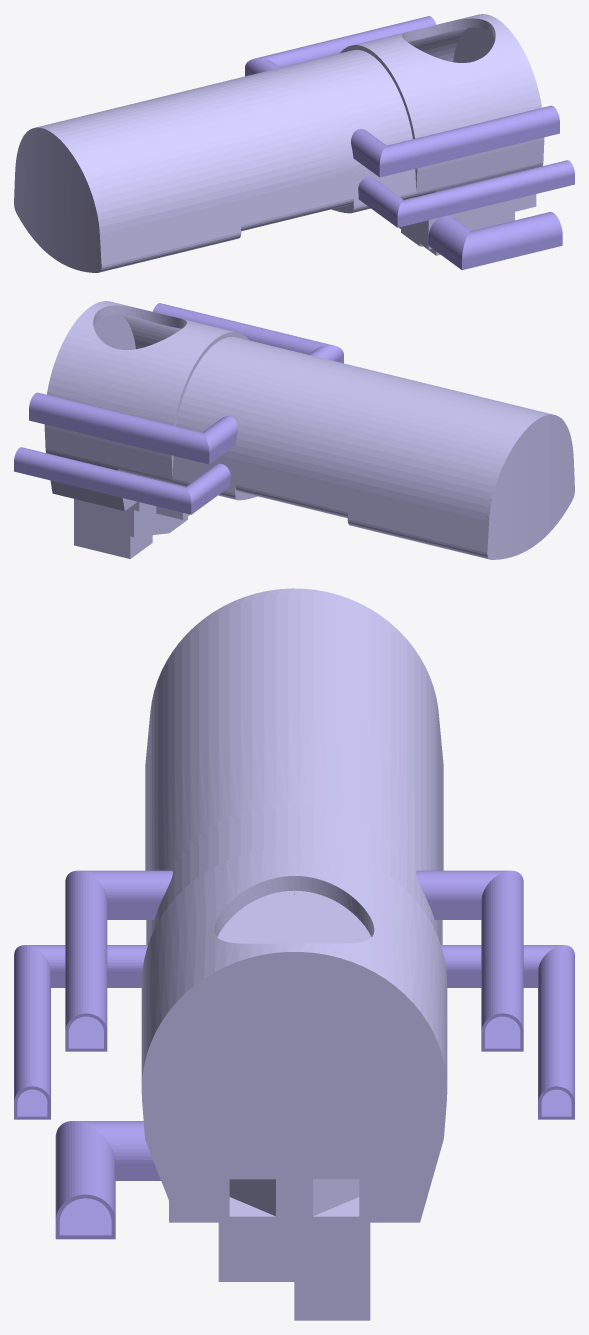
File: USA15-cut3.glb
3 renders of one model, top to bottom at view 1: azimuth 30°, elevation 25°; view 2: azimuth 150°, elevation 25°; view 3: azimuth 270°, elevation 25°, orthographic. The views are drawn at different scales.
Parts seen in each view (by area): view 1: null; view 2: null; view 3: null.
Boxes of the visible parts, left/top/right/bottom form: null: left=14, top=14, right=574, bottom=272; null: left=14, top=301, right=574, bottom=559; null: left=14, top=588, right=574, bottom=1320.
Bounding box in the file's own units: 64.27 × 30.28 × 41.1.
